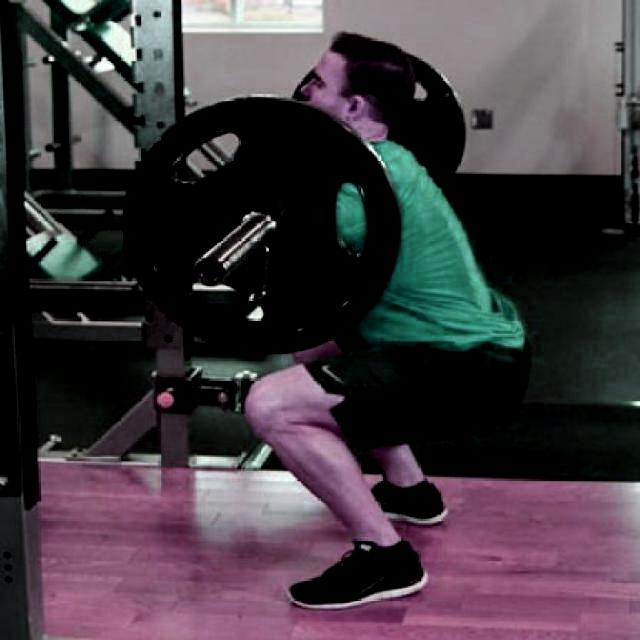barbell: (113, 88, 410, 365)
